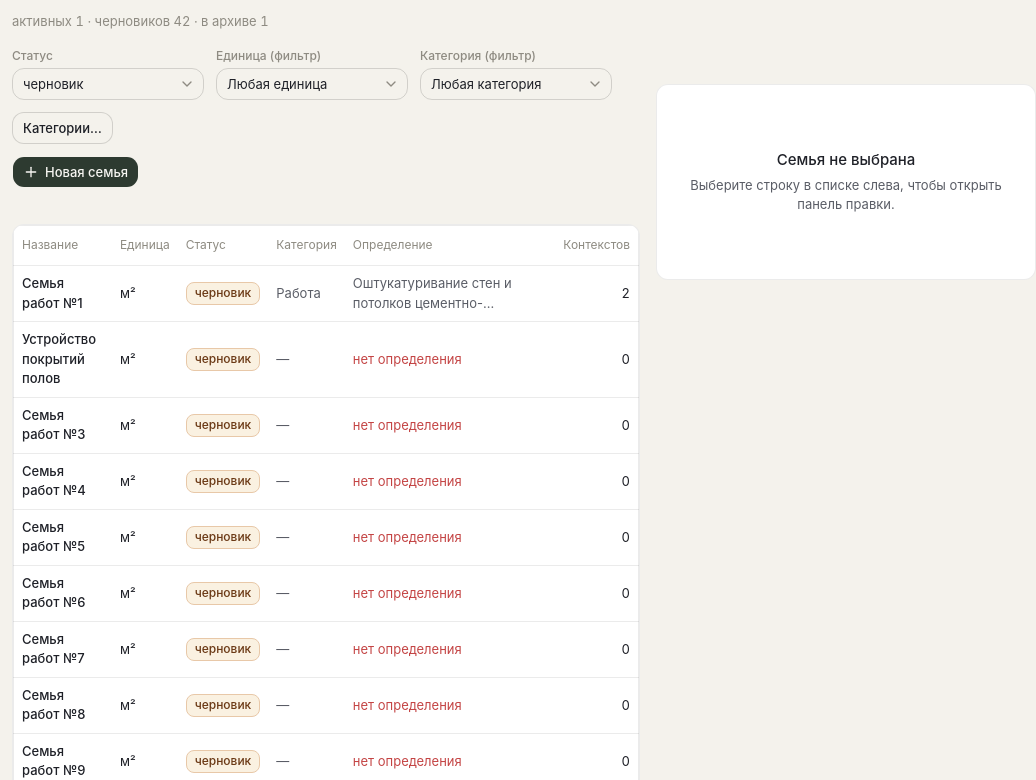
Test: FamiliesTab — предупреждение о сбросе перезапроса › правка названия и определения › правка названия при идущем перезапросе предупреждает числом заданий; без правки предупреждения нет
The width and height of the screenshot is (1036, 780).
expect the text "Семья работ №3" is shown: met, box [14,397,112,453]
Click the dropdown named "Статус" at (108, 84), box [12,68,204,100]
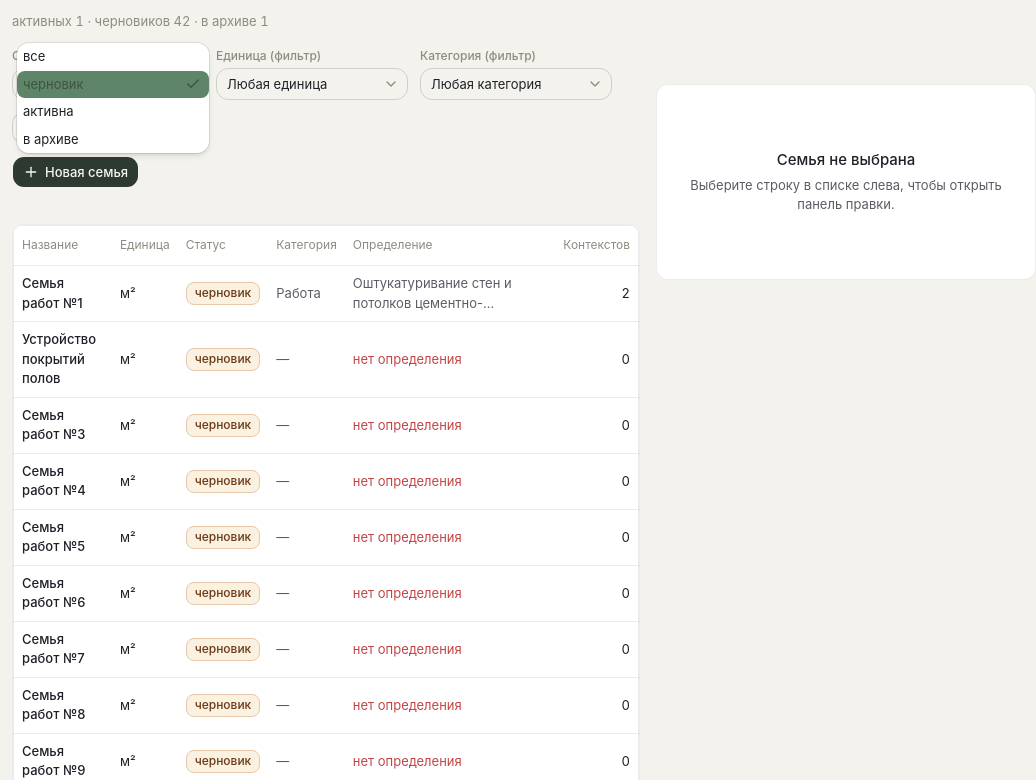
Click the option "активна" at (48, 111), box [23,103,74,119]
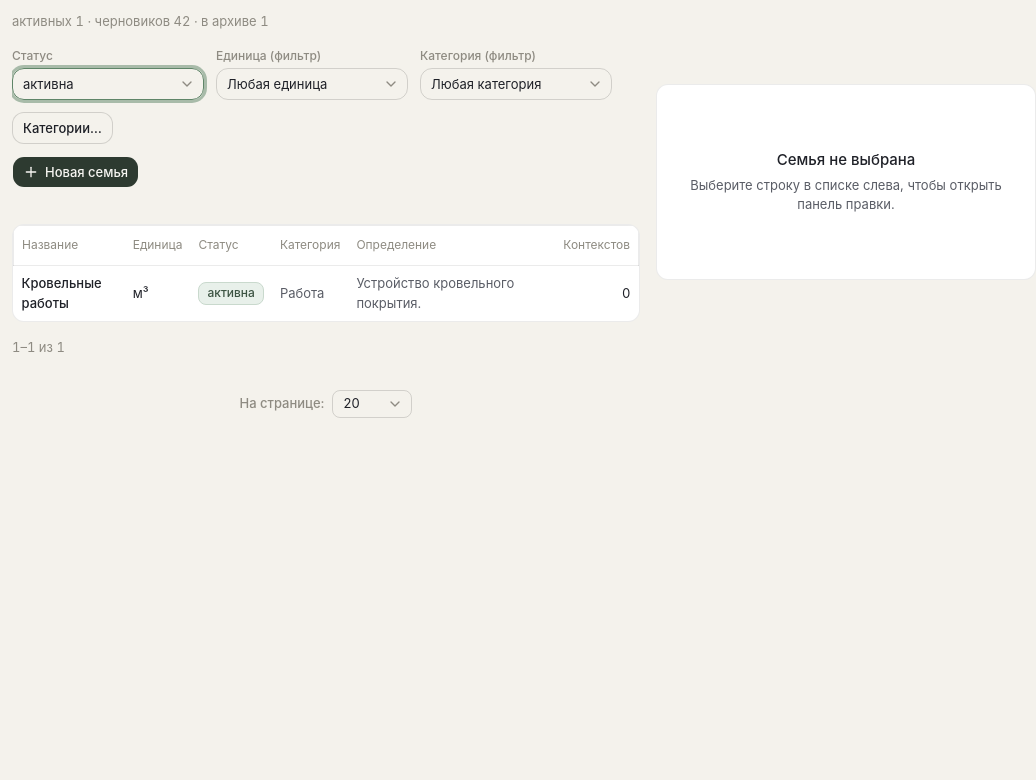
Click the text "Кровельные работы" at (69, 294), box [14,266,125,321]
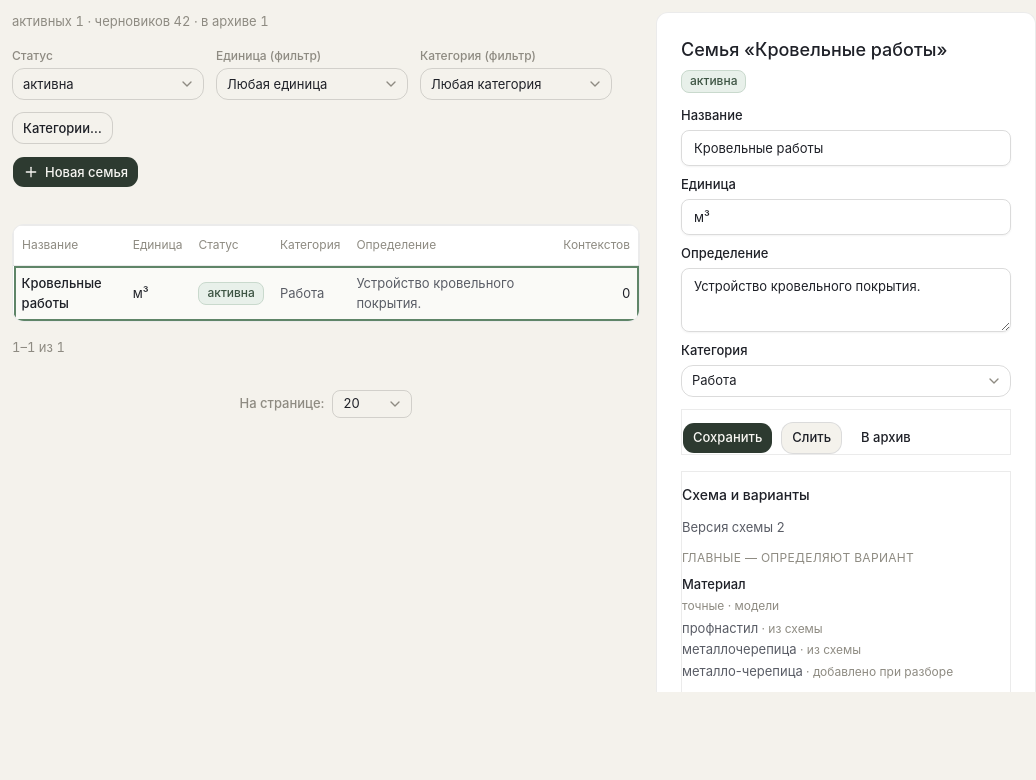
expect the text box labelled "Определение" is shown: met, box [681,268,1011,332]
Type " 2" into the field labelled "Название" at (846, 148), box [681,130,1011,166]
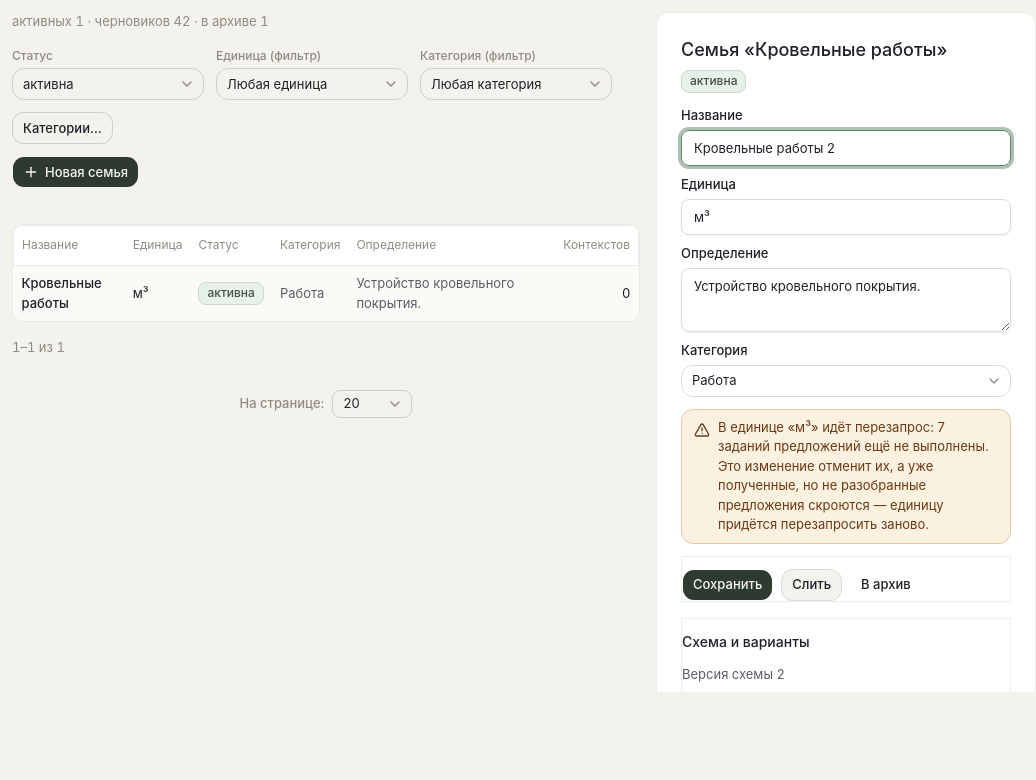
expect the text "В единице «м³» идёт перезапрос: 7 заданий предложений ещё не выполнены. Это изменение отменит их, а уже полученные, но н" is shown: met, box [718,419,989,532]
